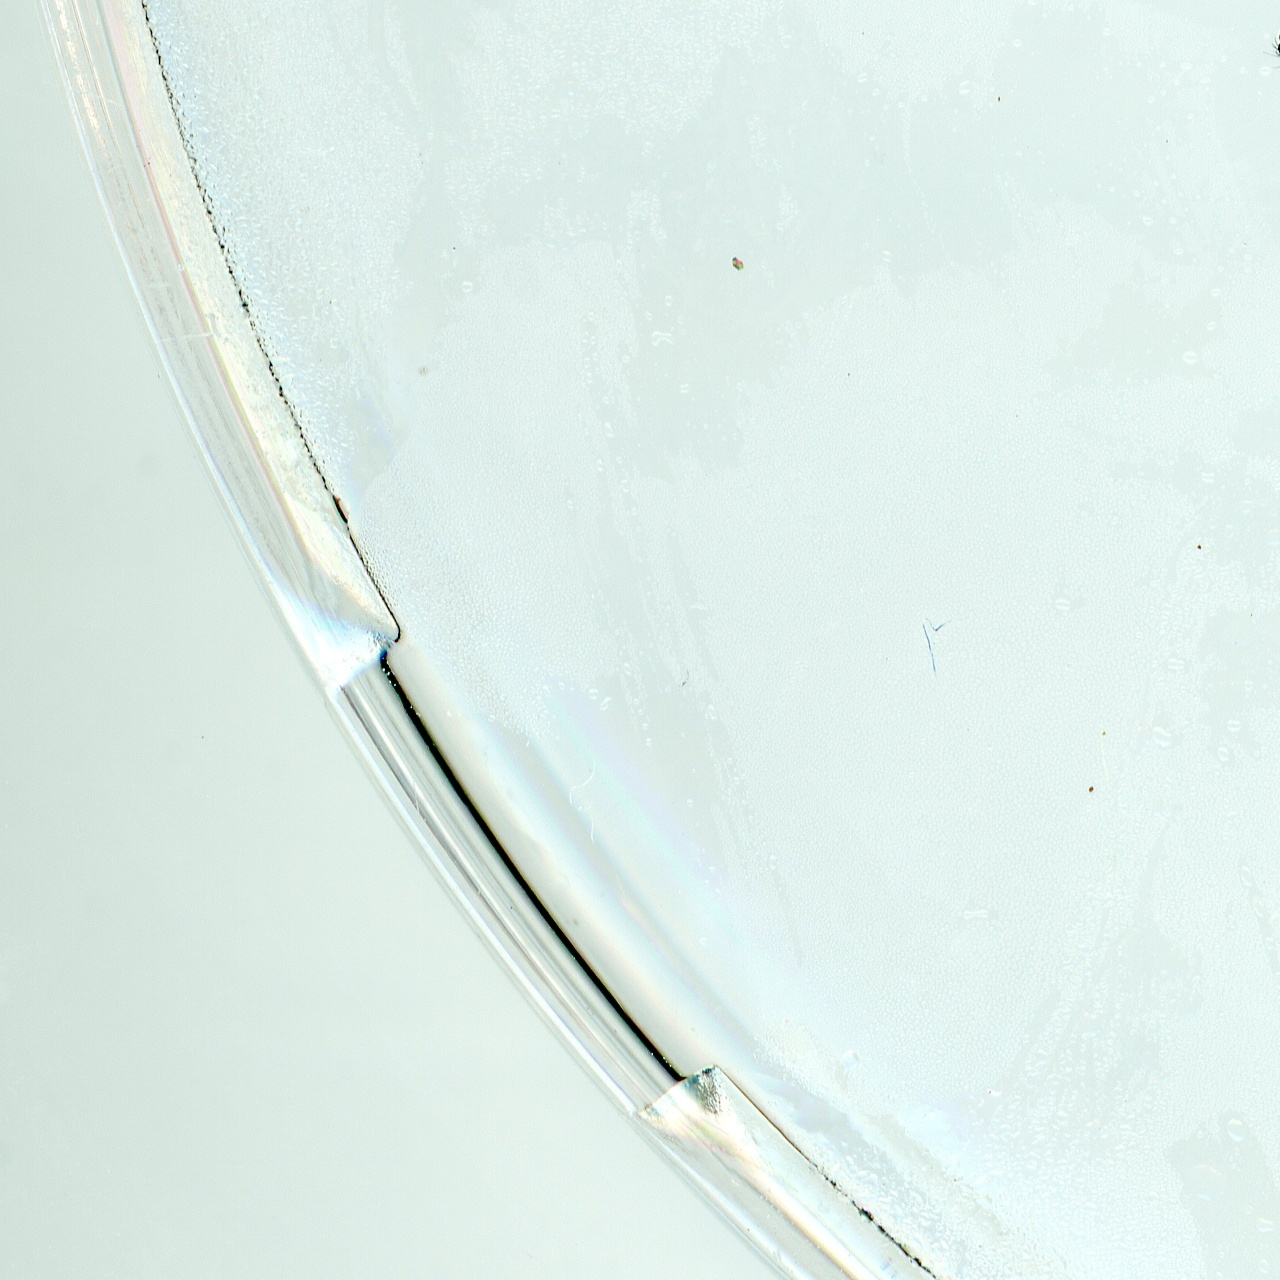arthropod: (1258, 0, 1280, 77)
